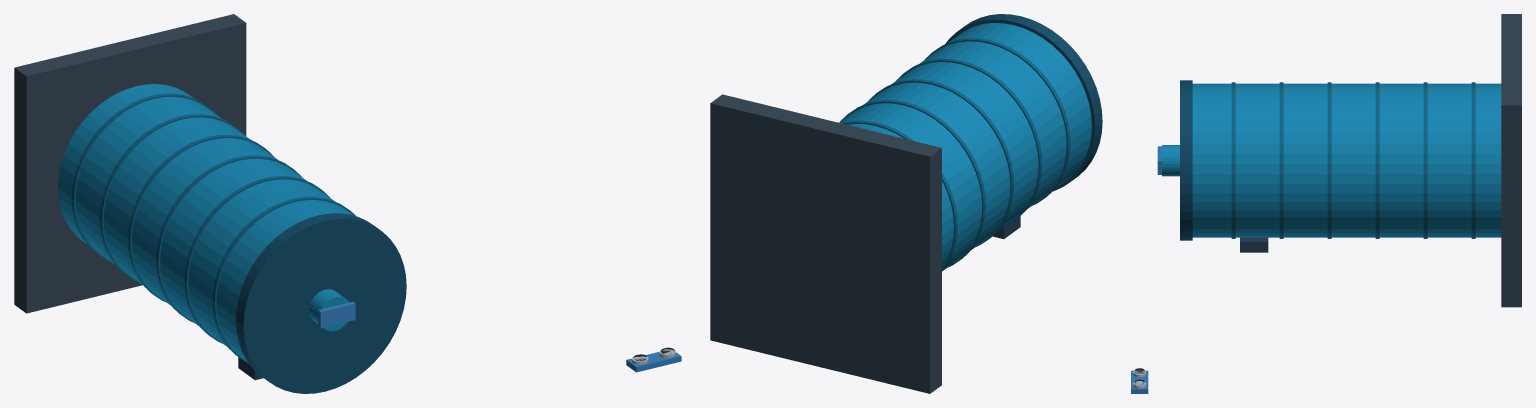
The model's file is MotionReady_Tank_Structure.obj.
The picture shows the model from 3 angles, left to right: view 1: azimuth 30°, elevation 25°; view 2: azimuth 150°, elevation 25°; view 3: azimuth 270°, elevation 25°; orthographic projection. The views are drawn at different scales.
Parts seen in each view (by area): view 1: Tank_Cylindrical_Body, Tank_Base_Platform, Tank_Lid, Tank_Rib_05, Tank_Rib_04, Tank_Rib_03, Tank_Rib_02, Tank_Rib_01, Tank_Rib_06, Tank_Fill_Neck, Tank_Sensor_Board; view 2: Tank_Base_Platform, Tank_Cylindrical_Body, Tank_Lid, Tank_Rib_06, Tank_Rib_04, Tank_Rib_03, Tank_Rib_05, Tank_Rib_02; view 3: Tank_Cylindrical_Body, Tank_Base_Platform, Tank_Lid, Tank_Rib_01, Tank_Rib_02, Tank_Rib_03, Tank_Rib_04, Tank_Rib_05, Tank_Rib_06, Tank_Fill_Neck, Tank_Identification_Plate.
Boxes of the visible parts, x1,y1,x2,y2 form: Tank_Cylindrical_Body: (58, 84, 354, 361); Tank_Base_Platform: (14, 14, 246, 313); Tank_Lid: (236, 213, 406, 393); Tank_Rib_05: (184, 176, 329, 343); Tank_Rib_04: (156, 155, 301, 322); Tank_Rib_03: (128, 134, 273, 302); Tank_Rib_02: (99, 114, 245, 281); Tank_Rib_01: (71, 93, 217, 260); Tank_Rib_06: (212, 196, 355, 363); Tank_Fill_Neck: (309, 289, 349, 331); Tank_Sensor_Board: (318, 301, 355, 328); Tank_Base_Platform: (710, 94, 941, 393); Tank_Cylindrical_Body: (839, 23, 1091, 270); Tank_Lid: (945, 14, 1102, 191); Tank_Rib_06: (924, 38, 1070, 205); Tank_Rib_04: (868, 79, 1014, 246); Tank_Rib_03: (840, 100, 985, 267); Tank_Rib_05: (896, 58, 1042, 226); Tank_Rib_02: (842, 120, 957, 271); Tank_Cylindrical_Body: (1192, 83, 1501, 237); Tank_Base_Platform: (1501, 14, 1521, 307); Tank_Lid: (1180, 80, 1192, 240); Tank_Rib_01: (1471, 82, 1475, 238); Tank_Rib_02: (1423, 82, 1427, 238); Tank_Rib_03: (1375, 82, 1379, 238); Tank_Rib_04: (1327, 82, 1331, 238); Tank_Rib_05: (1279, 82, 1283, 238); Tank_Rib_06: (1231, 82, 1235, 238); Tank_Fill_Neck: (1162, 145, 1179, 176); Tank_Identification_Plate: (1240, 237, 1268, 252).
Size of the model in its own units: 2510 by 1300 by 2280.
